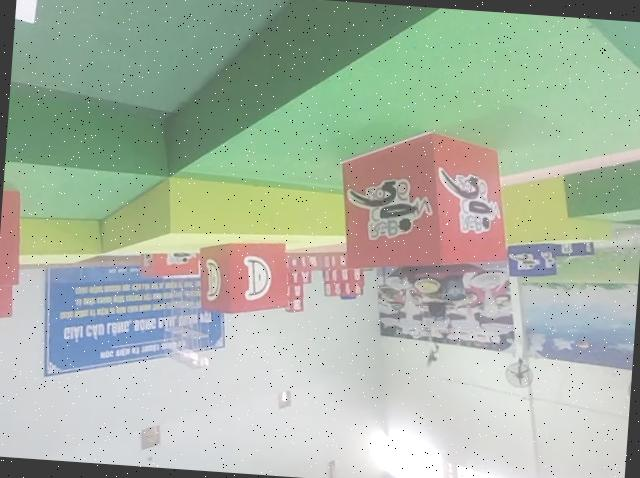R1: (331, 124, 514, 276)
R2 Fake: (0, 184, 28, 295)
R2 Real: (197, 236, 294, 321)
